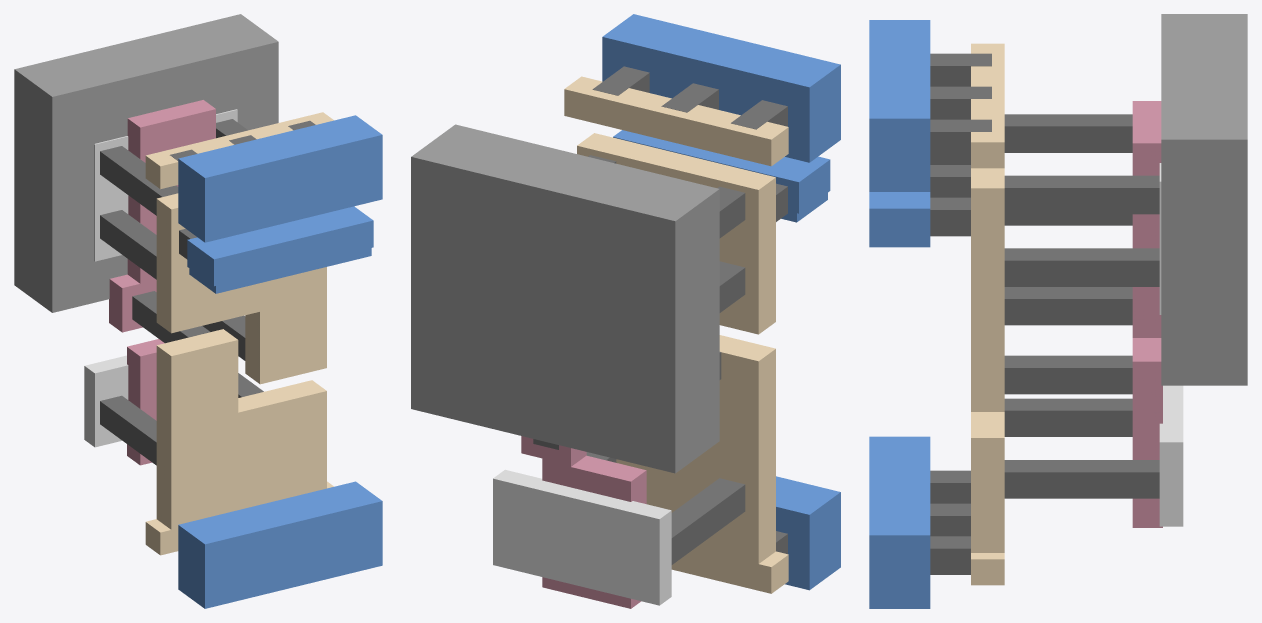
Rendered from sky130_fd_sc_hd__lpflow_decapkapwr_3.gds.gltf.
The picture shows the model from 3 angles, left to right: view 1: azimuth 30°, elevation 25°; view 2: azimuth 150°, elevation 25°; view 3: azimuth 270°, elevation 25°; orthographic projection. The views are drawn at different scales.
Parts seen in each view (by area): view 1: sky130_fd_sc_hd__lpflow_decapkapwr_3_met1, sky130_fd_sc_hd__lpflow_decapkapwr_3_li1, sky130_fd_sc_hd__lpflow_decapkapwr_3_nwell, sky130_fd_sc_hd__lpflow_decapkapwr_3_licon, sky130_fd_sc_hd__lpflow_decapkapwr_3_poly, sky130_fd_sc_hd__lpflow_decapkapwr_3_diff, sky130_fd_sc_hd__lpflow_decapkapwr_3_mcon; view 2: sky130_fd_sc_hd__lpflow_decapkapwr_3_nwell, sky130_fd_sc_hd__lpflow_decapkapwr_3_li1, sky130_fd_sc_hd__lpflow_decapkapwr_3_met1, sky130_fd_sc_hd__lpflow_decapkapwr_3_diff, sky130_fd_sc_hd__lpflow_decapkapwr_3_licon, sky130_fd_sc_hd__lpflow_decapkapwr_3_poly, sky130_fd_sc_hd__lpflow_decapkapwr_3_mcon; view 3: sky130_fd_sc_hd__lpflow_decapkapwr_3_licon, sky130_fd_sc_hd__lpflow_decapkapwr_3_nwell, sky130_fd_sc_hd__lpflow_decapkapwr_3_met1, sky130_fd_sc_hd__lpflow_decapkapwr_3_li1, sky130_fd_sc_hd__lpflow_decapkapwr_3_mcon, sky130_fd_sc_hd__lpflow_decapkapwr_3_poly, sky130_fd_sc_hd__lpflow_decapkapwr_3_diff.
Boxes of the visible parts, bbox=[...] form: sky130_fd_sc_hd__lpflow_decapkapwr_3_met1: bbox=[178, 115, 382, 608]; sky130_fd_sc_hd__lpflow_decapkapwr_3_li1: bbox=[145, 112, 333, 555]; sky130_fd_sc_hd__lpflow_decapkapwr_3_nwell: bbox=[14, 14, 278, 312]; sky130_fd_sc_hd__lpflow_decapkapwr_3_licon: bbox=[100, 119, 263, 465]; sky130_fd_sc_hd__lpflow_decapkapwr_3_poly: bbox=[109, 100, 215, 465]; sky130_fd_sc_hd__lpflow_decapkapwr_3_diff: bbox=[84, 109, 237, 447]; sky130_fd_sc_hd__lpflow_decapkapwr_3_mcon: bbox=[170, 120, 315, 259]; sky130_fd_sc_hd__lpflow_decapkapwr_3_nwell: bbox=[411, 124, 719, 473]; sky130_fd_sc_hd__lpflow_decapkapwr_3_li1: bbox=[564, 76, 788, 593]; sky130_fd_sc_hd__lpflow_decapkapwr_3_met1: bbox=[602, 14, 840, 590]; sky130_fd_sc_hd__lpflow_decapkapwr_3_diff: bbox=[493, 469, 671, 605]; sky130_fd_sc_hd__lpflow_decapkapwr_3_licon: bbox=[533, 155, 745, 564]; sky130_fd_sc_hd__lpflow_decapkapwr_3_poly: bbox=[521, 436, 646, 608]; sky130_fd_sc_hd__lpflow_decapkapwr_3_mcon: bbox=[592, 66, 787, 554]; sky130_fd_sc_hd__lpflow_decapkapwr_3_licon: bbox=[1004, 114, 1159, 498]; sky130_fd_sc_hd__lpflow_decapkapwr_3_nwell: bbox=[1161, 14, 1247, 385]; sky130_fd_sc_hd__lpflow_decapkapwr_3_met1: bbox=[869, 20, 930, 608]; sky130_fd_sc_hd__lpflow_decapkapwr_3_li1: bbox=[971, 43, 1004, 585]; sky130_fd_sc_hd__lpflow_decapkapwr_3_mcon: bbox=[930, 53, 991, 574]; sky130_fd_sc_hd__lpflow_decapkapwr_3_poly: bbox=[1132, 101, 1162, 527]; sky130_fd_sc_hd__lpflow_decapkapwr_3_diff: bbox=[1159, 163, 1183, 526].
Bounding box in the file's own units: 1.76 × 3.2 × 2.24.
